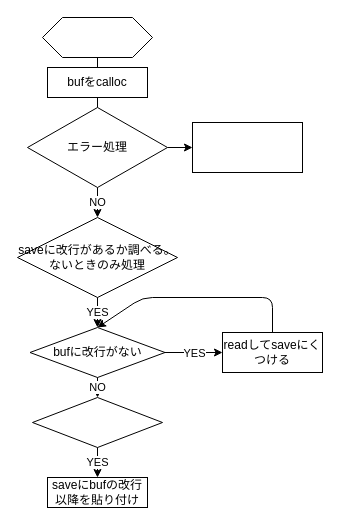
Some shapes in this 340 by 525 pixel diagram are drawn without their labels. Here are the shapes that lost their labels. From the top down, the centre of each, then its label:
At point 97,37: "start".
At point 247,147: "return(-1)".
At point 97,422: "bufに改行がある".
